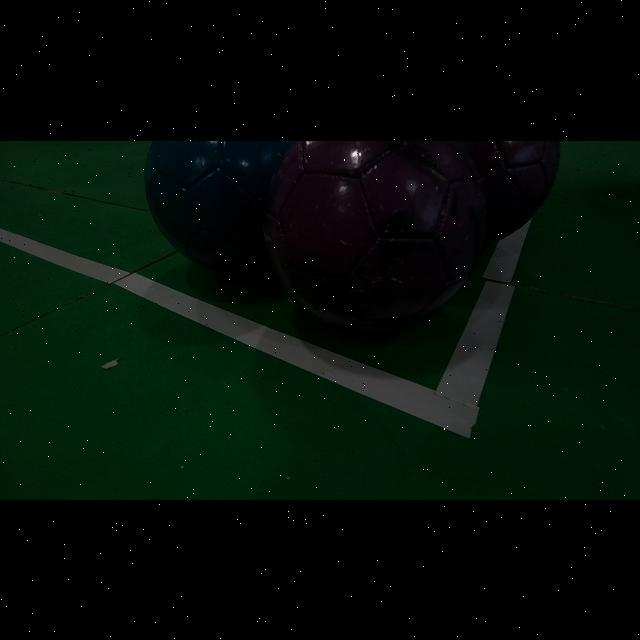B: (145, 140, 292, 273)
P: (263, 140, 487, 332), (463, 140, 560, 242)
